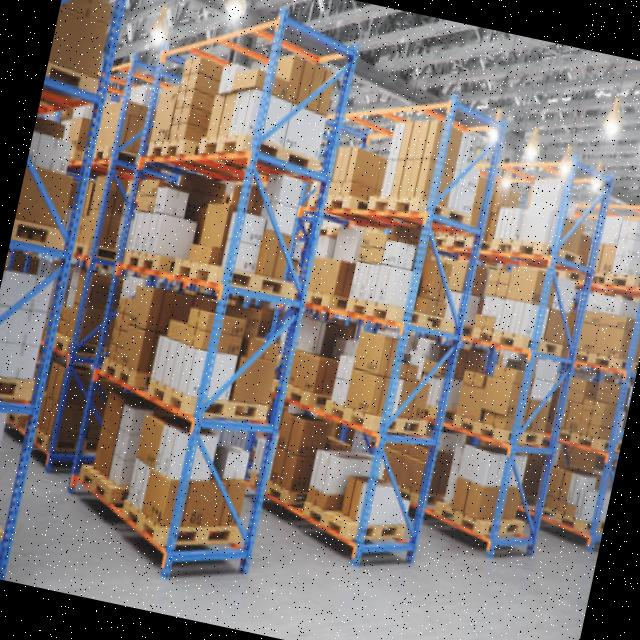Wooden-Pallets: (291, 495, 356, 557), (110, 490, 167, 555), (139, 370, 194, 429), (133, 134, 190, 183), (317, 390, 372, 440), (163, 253, 221, 299), (337, 292, 398, 331), (360, 190, 422, 220), (196, 136, 250, 159)
